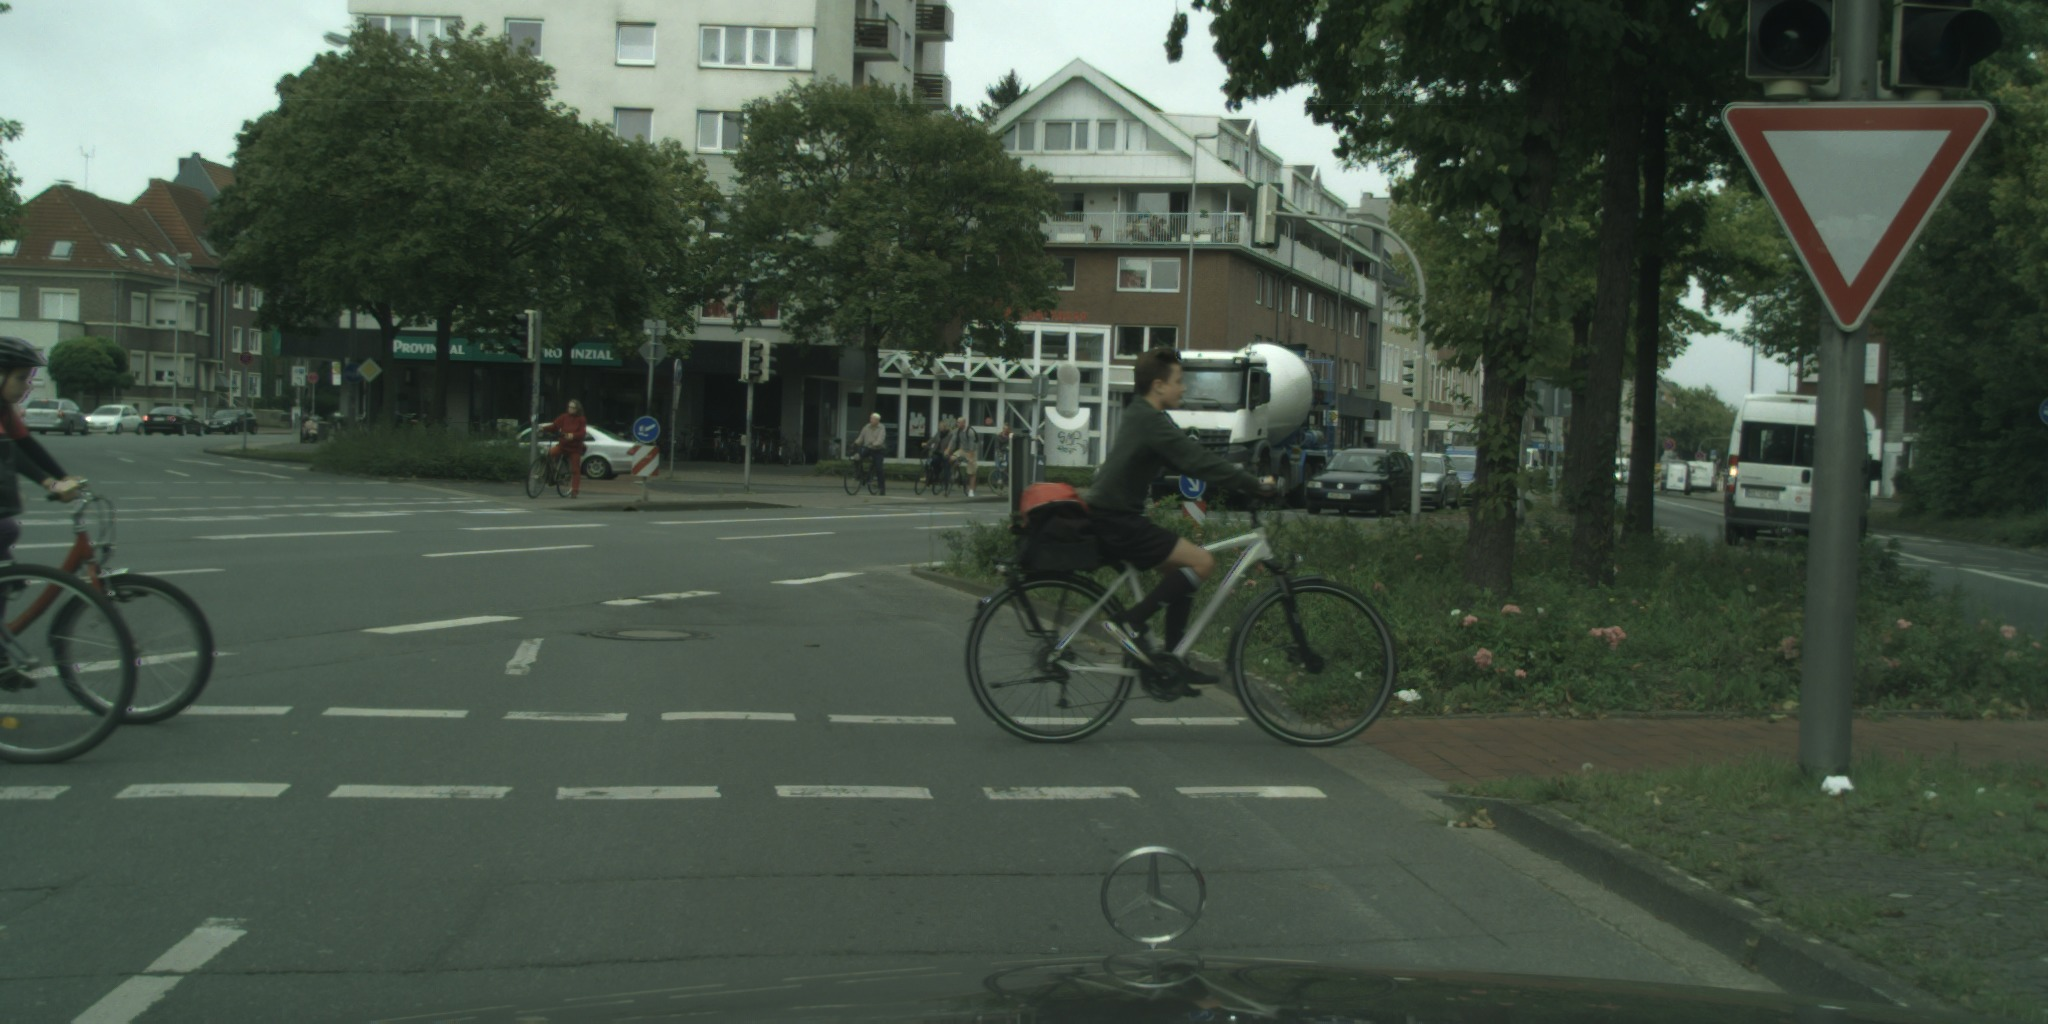bicycle: (965, 479, 1398, 749), (54, 478, 215, 725), (0, 563, 136, 764), (526, 430, 574, 499), (843, 443, 879, 496), (944, 453, 979, 499), (915, 445, 944, 496), (988, 454, 1014, 496), (932, 463, 952, 495)
car: (1724, 393, 1881, 551), (478, 422, 646, 481), (1307, 449, 1415, 518), (1405, 452, 1462, 514), (18, 397, 89, 436), (1442, 446, 1482, 507), (143, 406, 208, 436), (85, 404, 146, 435), (202, 409, 259, 436), (1612, 458, 1632, 485)
person: (0, 335, 84, 588), (994, 422, 1016, 482)
rider: (1080, 347, 1276, 664), (1148, 549, 1222, 690), (539, 399, 588, 499), (943, 416, 978, 498), (852, 412, 886, 496), (920, 420, 962, 487)
truck: (1151, 343, 1346, 512)
